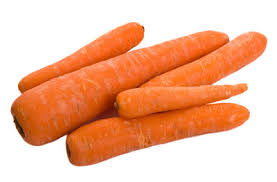carrot: (4, 25, 249, 151), (6, 17, 153, 95), (57, 111, 257, 158), (128, 34, 271, 96), (110, 78, 258, 113)
